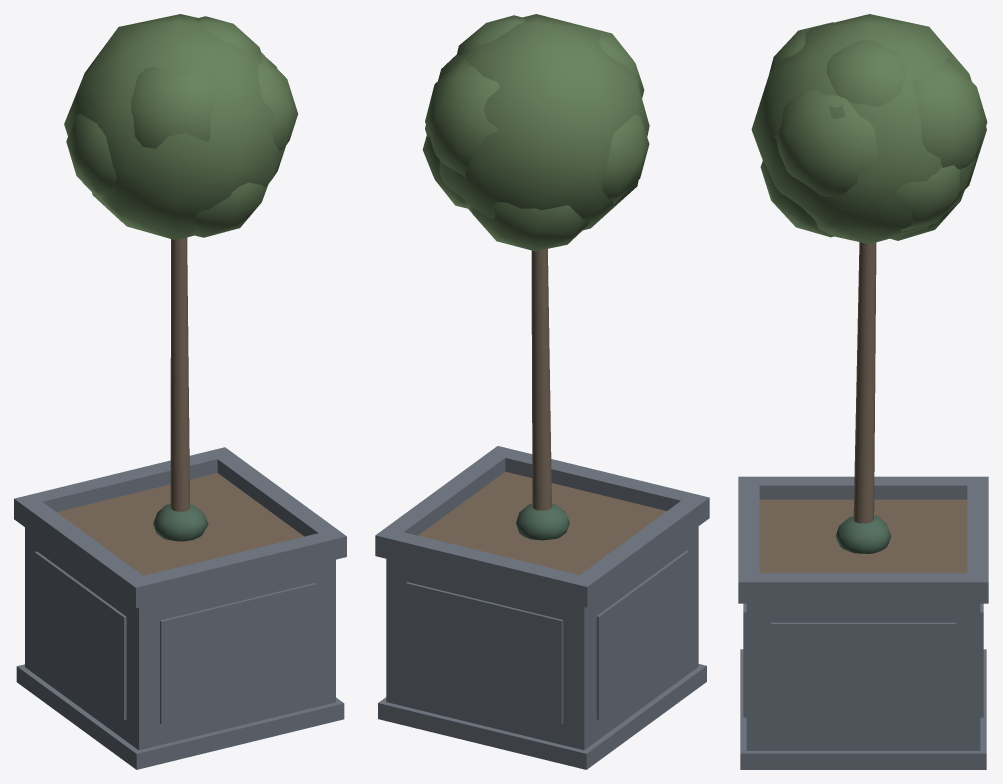
The model's file is NPR_07_2021__MOD__VegetationElements__Topiary__PottedStandard__Var-01__.glb.
The picture shows the model from 3 angles, left to right: view 1: azimuth 30°, elevation 25°; view 2: azimuth 150°, elevation 25°; view 3: azimuth 270°, elevation 25°; orthographic projection. The views are drawn at different scales.
Visible parts, largest first — view 1: NPR_07_2021__MOD__VegetationElements__Topiary__PottedStandar; view 2: NPR_07_2021__MOD__VegetationElements__Topiary__PottedStandar; view 3: NPR_07_2021__MOD__VegetationElements__Topiary__PottedStandar.
Boxes of the visible parts, <box> form: NPR_07_2021__MOD__VegetationElements__Topiary__PottedStandar: <box>14,14,346,769</box>; NPR_07_2021__MOD__VegetationElements__Topiary__PottedStandar: <box>375,14,709,769</box>; NPR_07_2021__MOD__VegetationElements__Topiary__PottedStandar: <box>738,14,988,769</box>.
Bounding box in the file's own units: 0.482 × 1.48 × 0.482.
